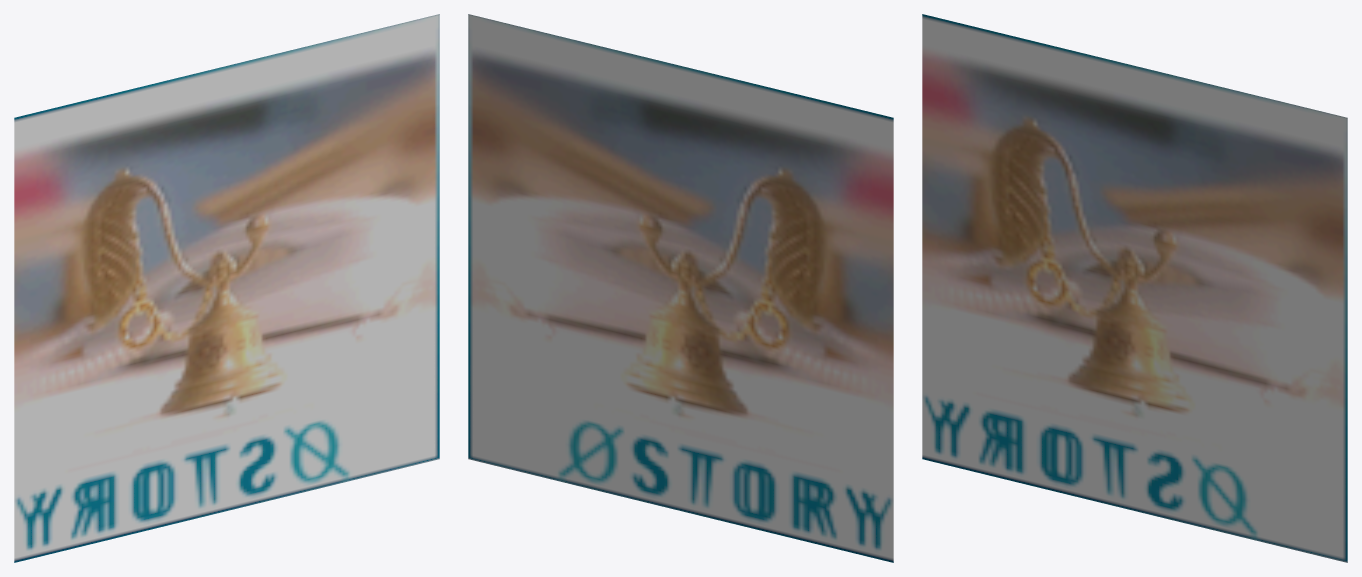
Rendered from icon1.ico.obj.
3 renders of one model, left to right at view 1: azimuth 30°, elevation 25°; view 2: azimuth 150°, elevation 25°; view 3: azimuth 330°, elevation 25°, orthographic.
Size of the model in its own units: 4.5 by 4.5 by 0.
Materials: 1 (1 with a texture image).
